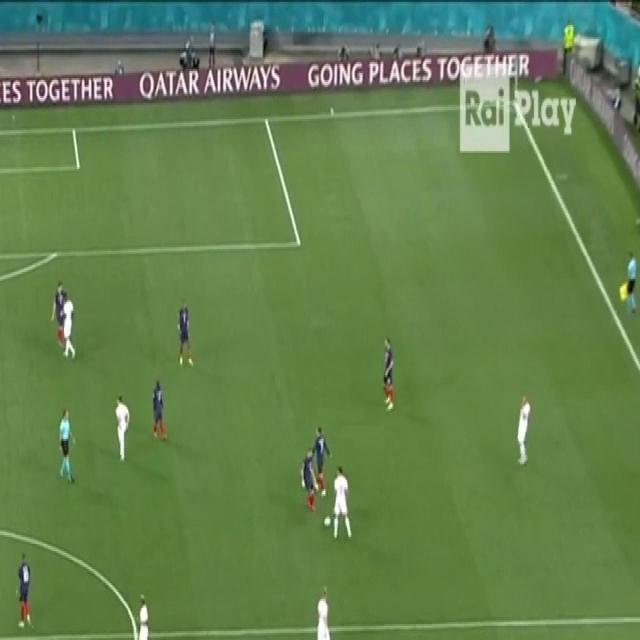ball: (322, 513, 332, 529)
player-white: (309, 424, 333, 501), (57, 408, 77, 486), (332, 466, 353, 540), (312, 583, 338, 640), (299, 448, 321, 514), (15, 552, 33, 631), (176, 299, 194, 371), (50, 280, 68, 350), (516, 393, 532, 469), (60, 288, 76, 362), (381, 333, 395, 415), (114, 393, 130, 464), (133, 592, 156, 640), (151, 376, 167, 444), (625, 247, 638, 316)
